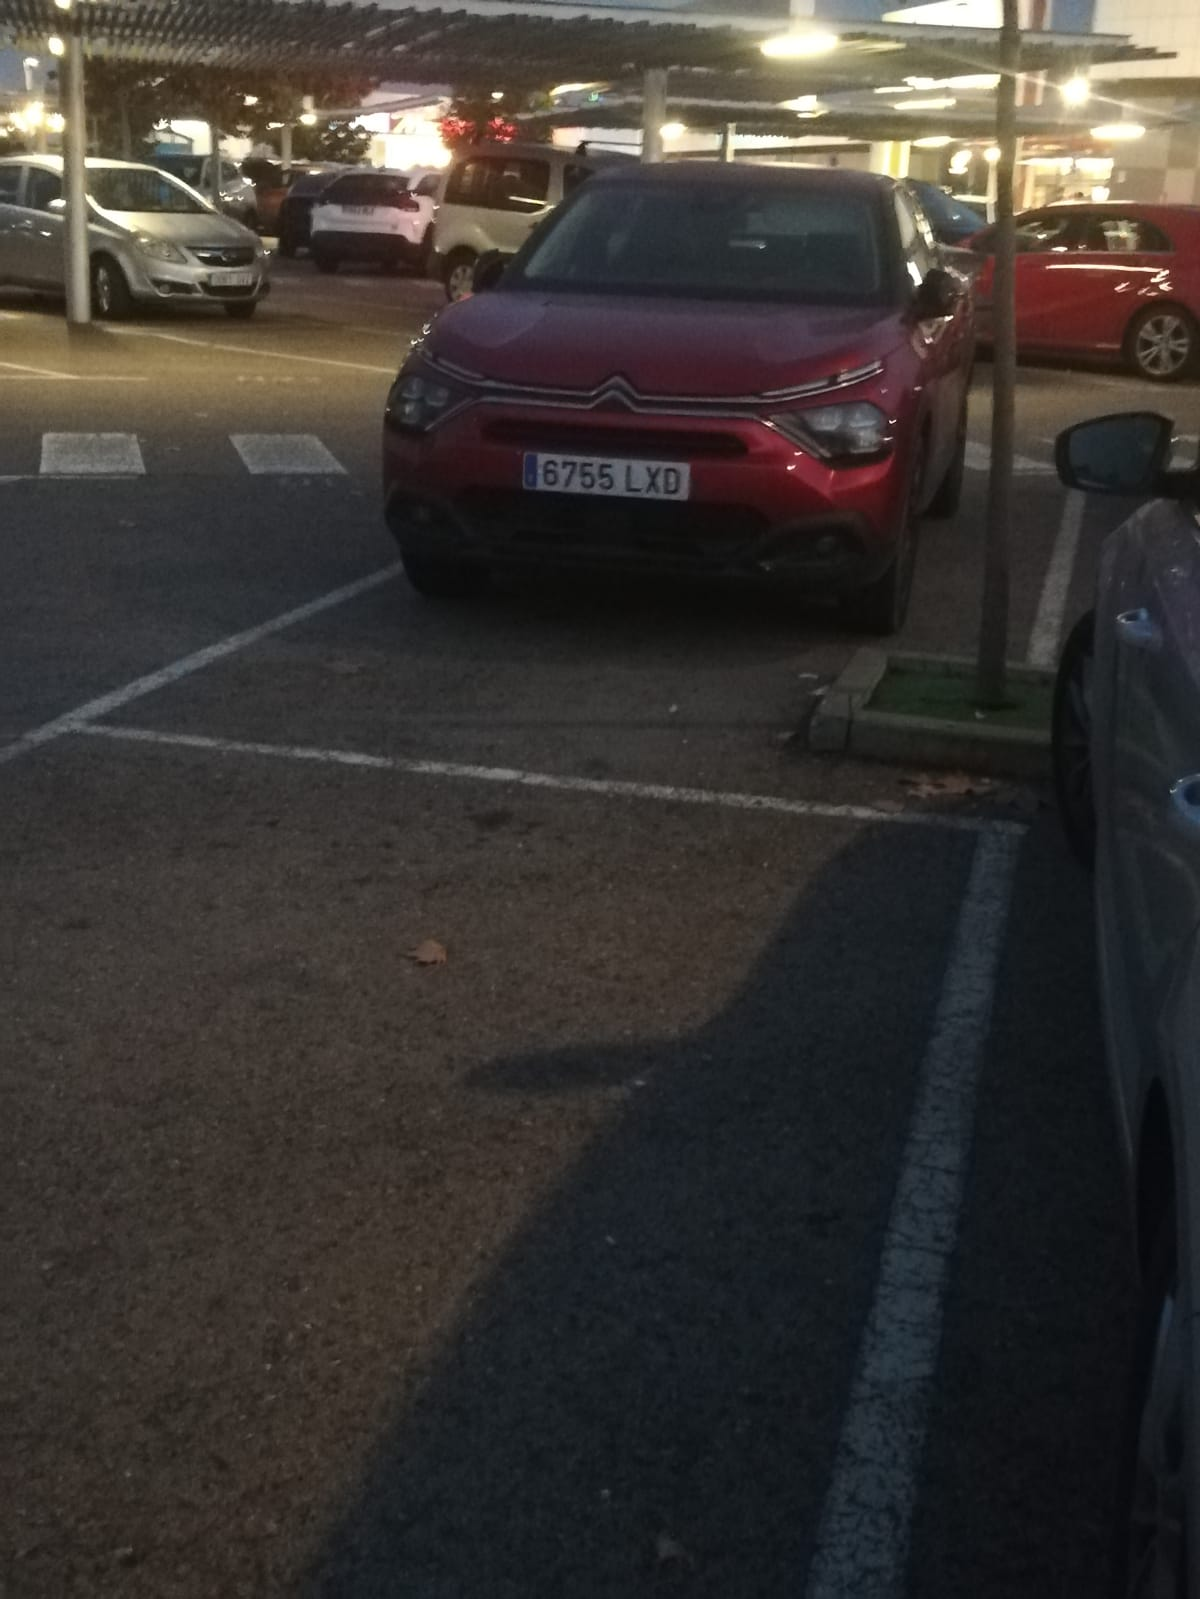Car: (383, 162, 969, 637)
Plate: (522, 450, 689, 490)
